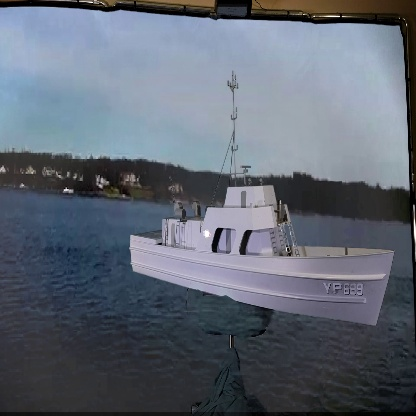YP689: (129, 72, 393, 328)
